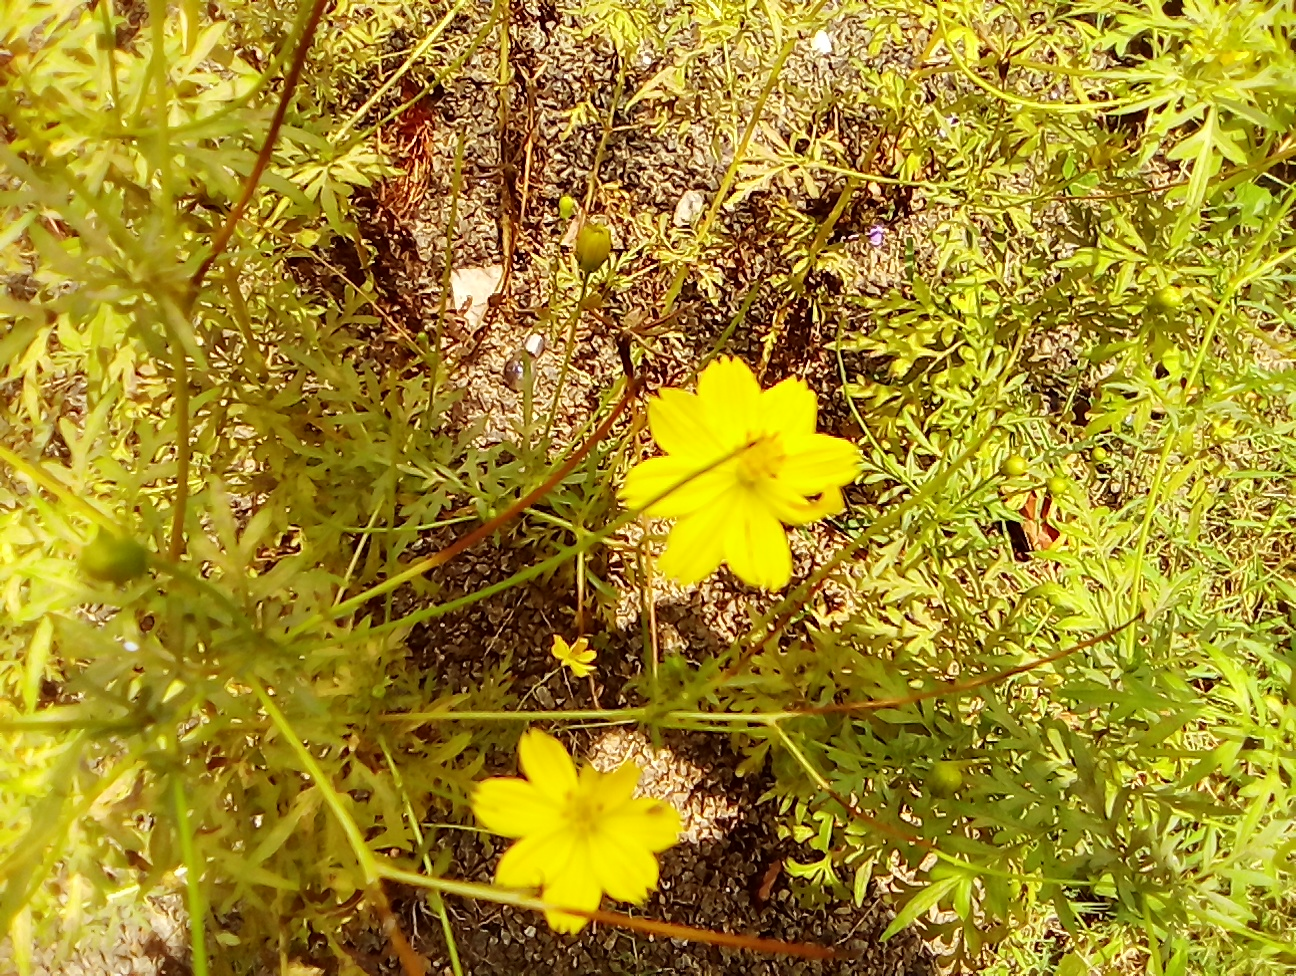kahamala: (445, 718, 743, 951), (618, 354, 866, 596)
